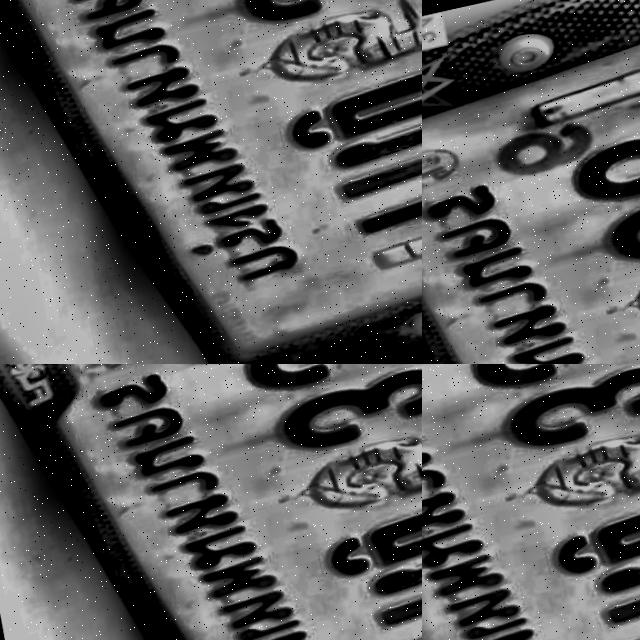license-plate: (0, 364, 422, 640), (422, 364, 640, 640)
